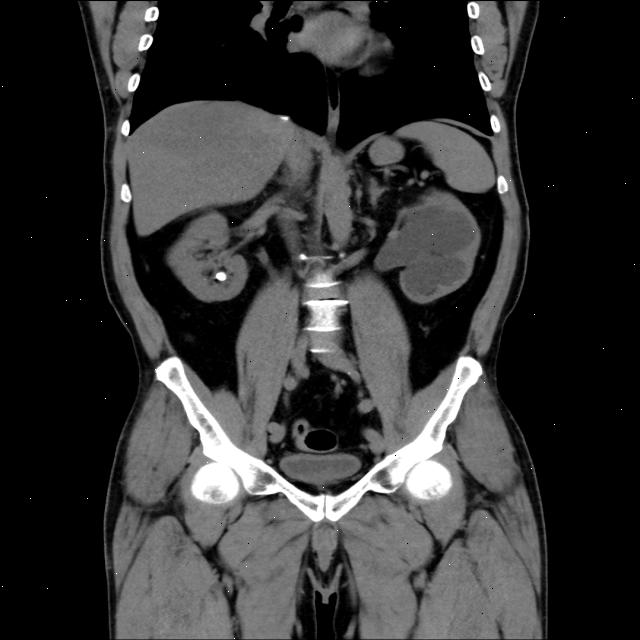kidneystone: (218, 271, 222, 282)
